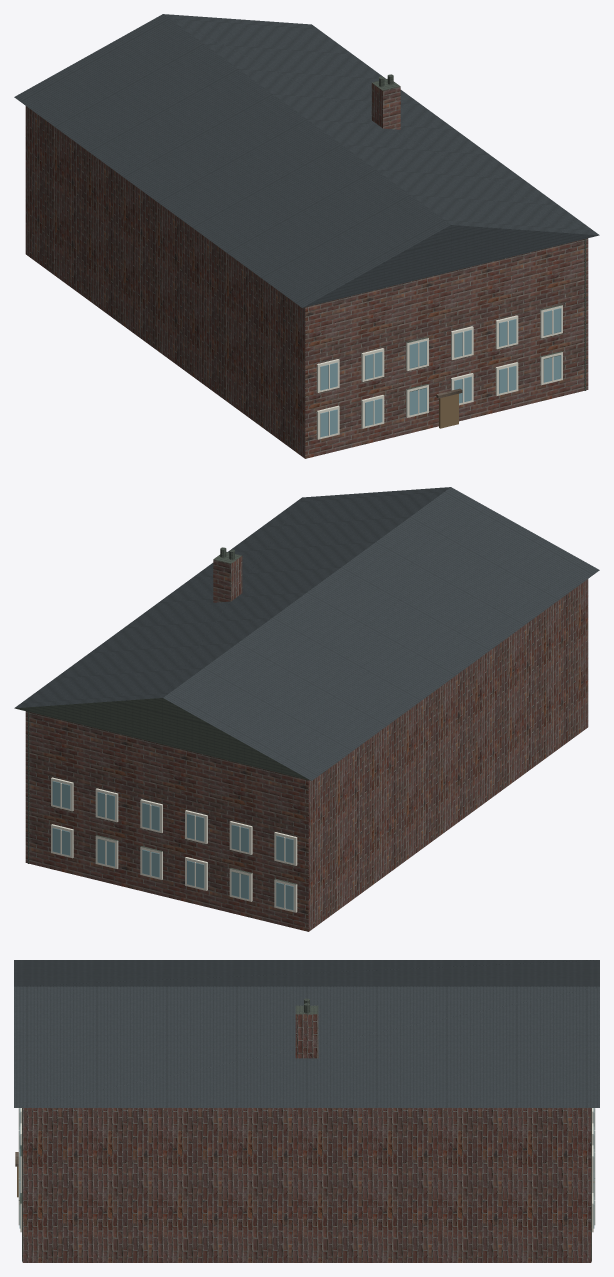
File: damaged1.gltf
3 views of the same model, one above another, from view 1: azimuth 30°, elevation 25°; view 2: azimuth 150°, elevation 25°; view 3: azimuth 270°, elevation 25° (orthographic).
Parts seen in each view (by area): view 1: britainwarehouse_damaged1; view 2: britainwarehouse_damaged1; view 3: britainwarehouse_damaged1.
Part boxes in pixels (bbox=[...]): britainwarehouse_damaged1: bbox=[14, 14, 599, 458]; britainwarehouse_damaged1: bbox=[14, 487, 599, 931]; britainwarehouse_damaged1: bbox=[14, 960, 599, 1262].
Size of the model in its own units: 40 by 29 by 67.
Materials: 8 (5 with a texture image).
